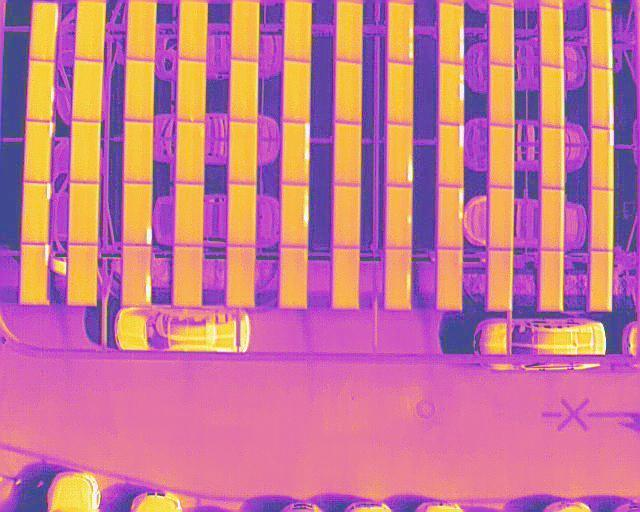Cell: (387, 186, 412, 249)
No-Anomaly: (76, 0, 106, 62), (71, 121, 101, 183), (68, 245, 98, 306), (73, 61, 103, 122), (69, 182, 98, 245), (174, 247, 203, 309), (126, 60, 155, 122), (127, 0, 156, 60), (229, 184, 257, 246), (228, 246, 256, 308), (333, 248, 361, 310), (180, 0, 208, 61), (232, 0, 260, 61), (178, 61, 206, 122), (125, 122, 153, 183), (281, 247, 308, 310), (284, 60, 311, 123), (230, 121, 257, 184), (177, 184, 204, 247), (334, 186, 361, 248), (285, 0, 312, 62), (177, 122, 204, 184), (232, 60, 259, 121), (336, 0, 362, 62), (336, 62, 362, 124), (335, 124, 361, 185), (389, 62, 414, 125), (437, 249, 462, 311), (541, 4, 565, 68), (539, 250, 564, 311), (490, 3, 514, 66), (490, 64, 514, 127), (491, 124, 514, 189), (540, 189, 564, 251), (591, 190, 615, 252), (489, 249, 513, 311), (491, 187, 514, 249), (542, 66, 565, 128), (542, 127, 565, 189), (590, 252, 613, 312)
Unclassified: (124, 183, 153, 245), (24, 121, 53, 182), (23, 181, 51, 244), (21, 244, 49, 306), (124, 245, 152, 307), (30, 0, 58, 61), (283, 122, 310, 185), (282, 185, 309, 247), (28, 60, 55, 122), (388, 125, 415, 187), (437, 188, 464, 249), (385, 249, 412, 310), (439, 2, 465, 65), (439, 62, 465, 125), (439, 126, 465, 188), (390, 1, 415, 65), (590, 67, 615, 131), (590, 5, 613, 70), (592, 129, 615, 191)
